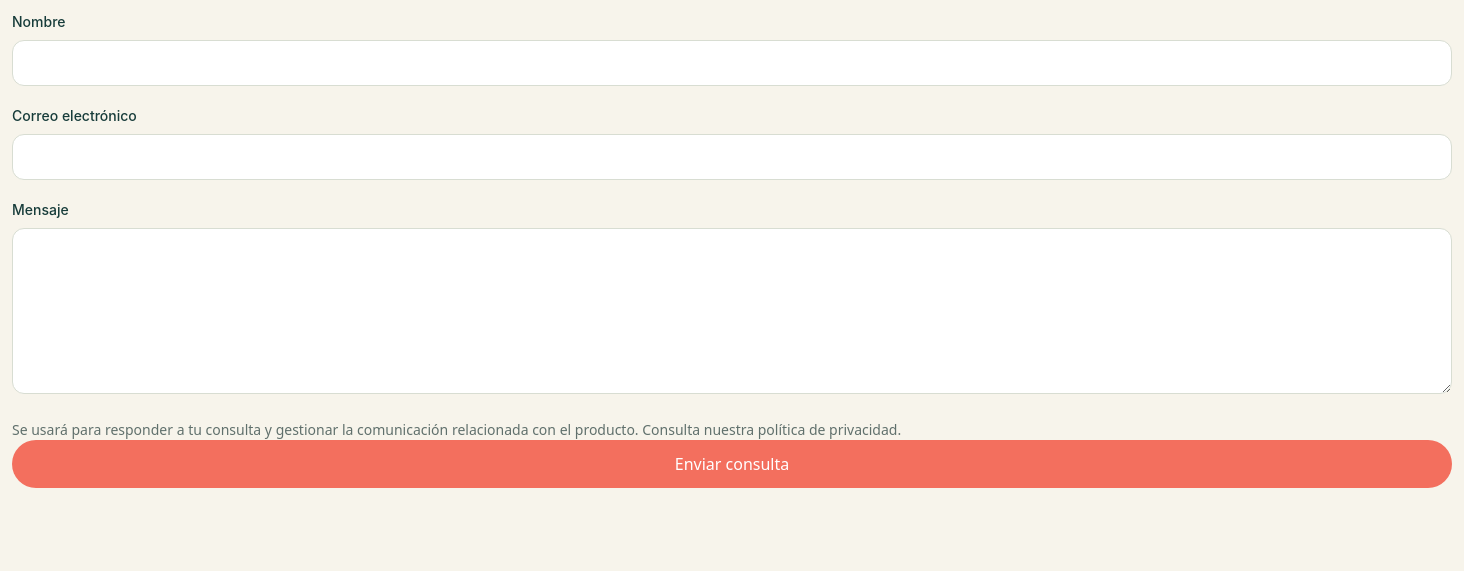
Test: preserves content after failure and clears it only after confirmed storage
In the field labelled "Nombre": (732, 63) [12,40,1452,86], type "Ana"
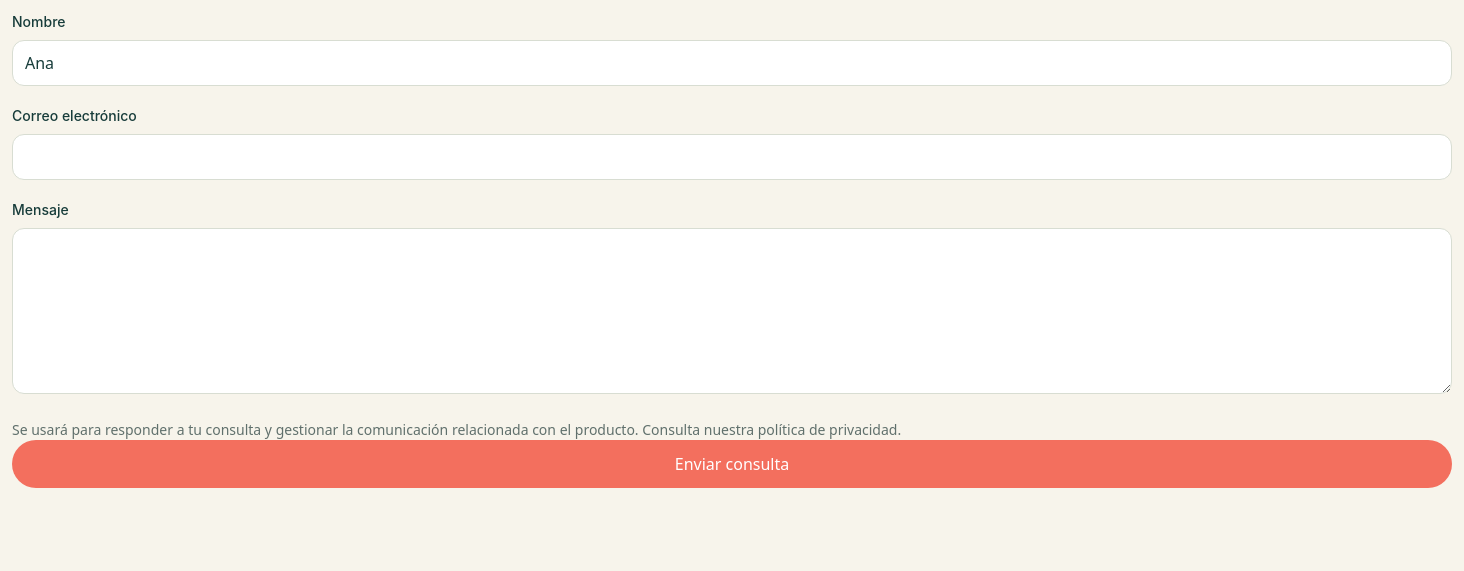
In the field labelled "Correo electrónico": (732, 157) [12,134,1452,180], type "ana@example.com"
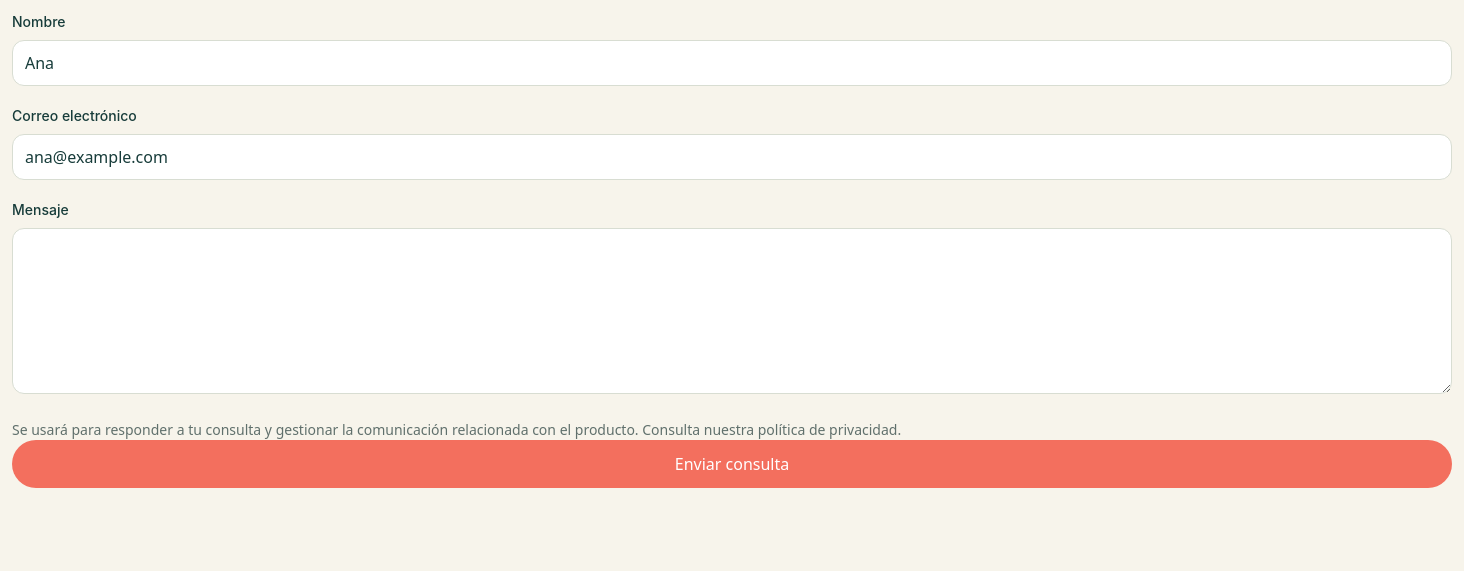
In the text box labelled "Mensaje": (732, 311) [12,228,1452,394], type "Hola"
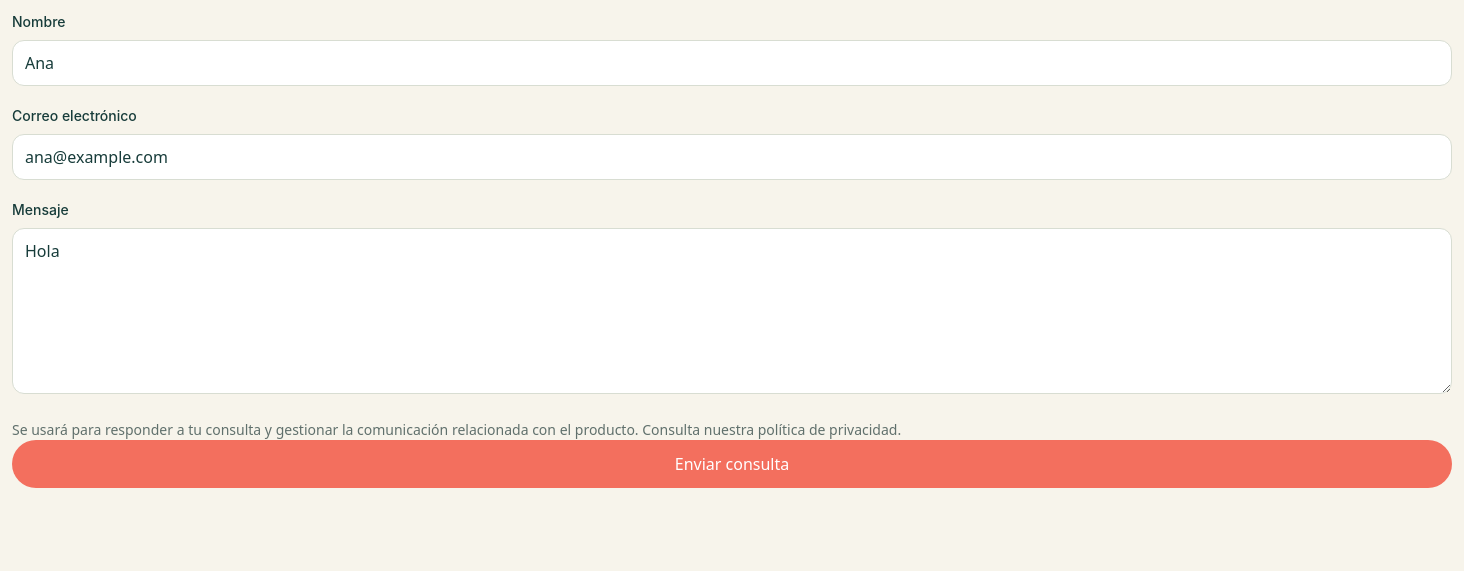
Click the button "Enviar consulta": (732, 464) [12,440,1452,488]
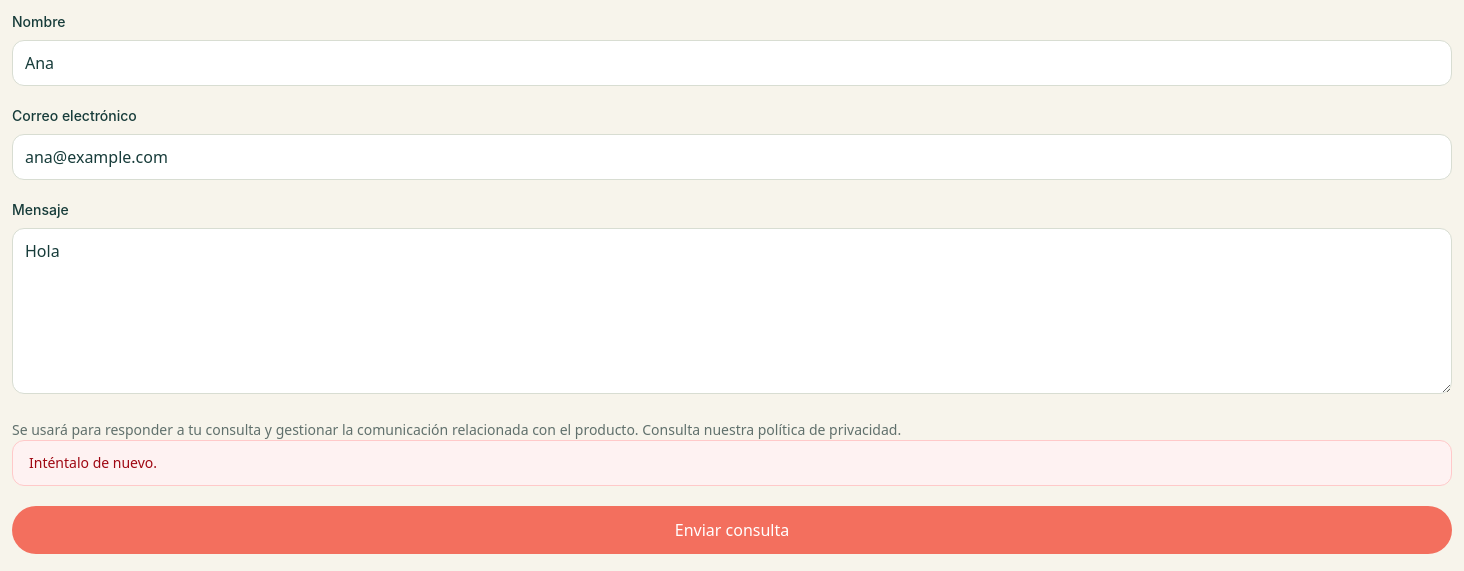
Check: the text "Inténtalo de nuevo." is shown, box [12,440,1452,486]
Click the button "Enviar consulta": (732, 530) [12,506,1452,554]
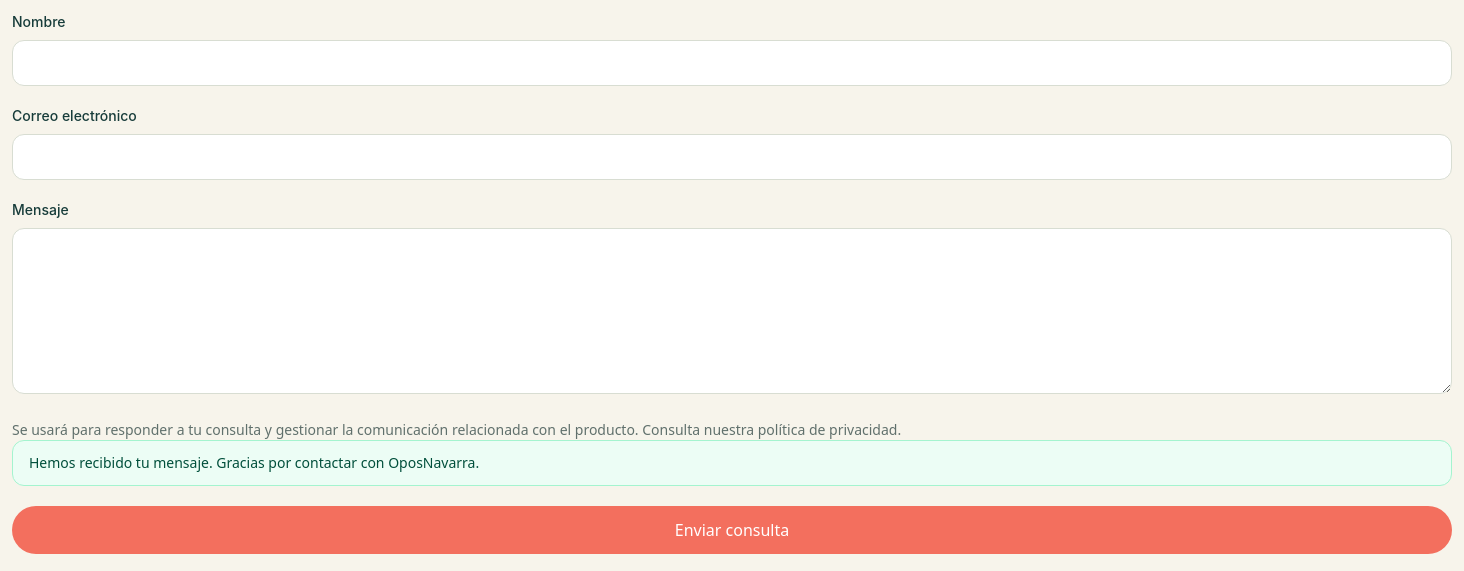
Check: the text "Hemos recibido tu mensaje. Gracias por contactar con OposNavarra." is shown, box [12,440,1452,486]
Check: the text box labelled "Mensaje" is empty, box [12,228,1452,394]
